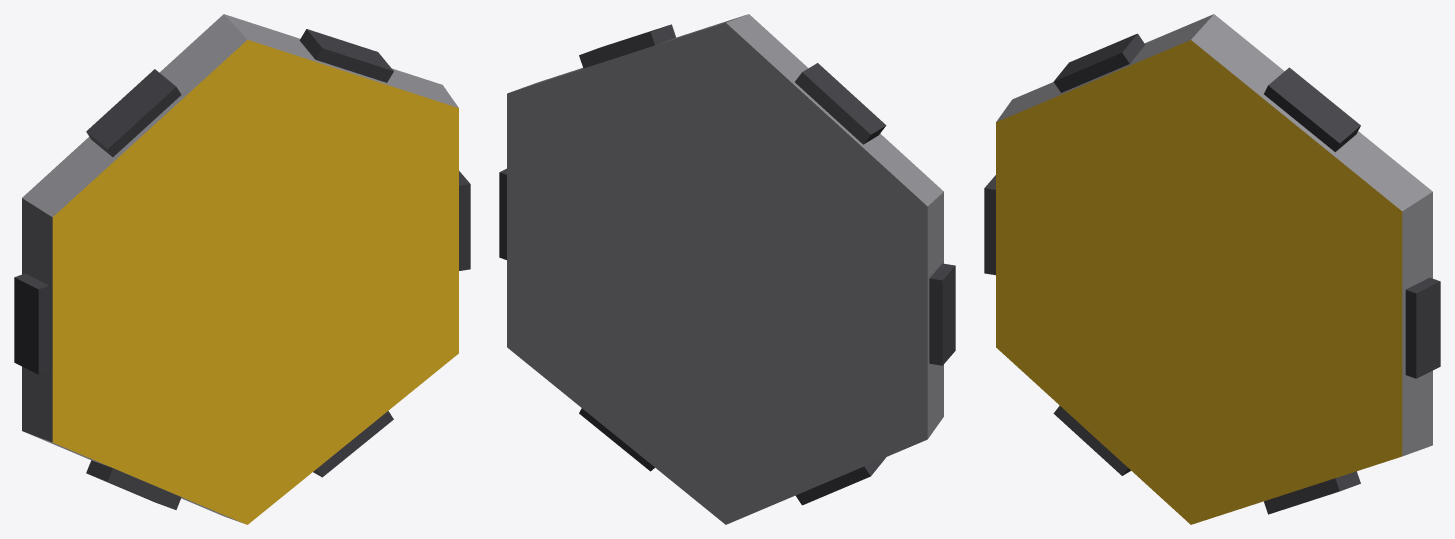
File: len_ring1.obj
3 renders of one model, left to right at view 1: azimuth 30°, elevation 25°; view 2: azimuth 150°, elevation 25°; view 3: azimuth 330°, elevation 25°, orthographic.
Visible parts, largest first — view 1: len_ring1; view 2: len_ring1; view 3: len_ring1.
Part boxes in pixels (<box>): len_ring1: <box>14,14,470,524</box>; len_ring1: <box>499,14,955,524</box>; len_ring1: <box>984,14,1440,524</box>.
Size of the model in its own units: 0.5438 by 0.5888 by 0.05.
